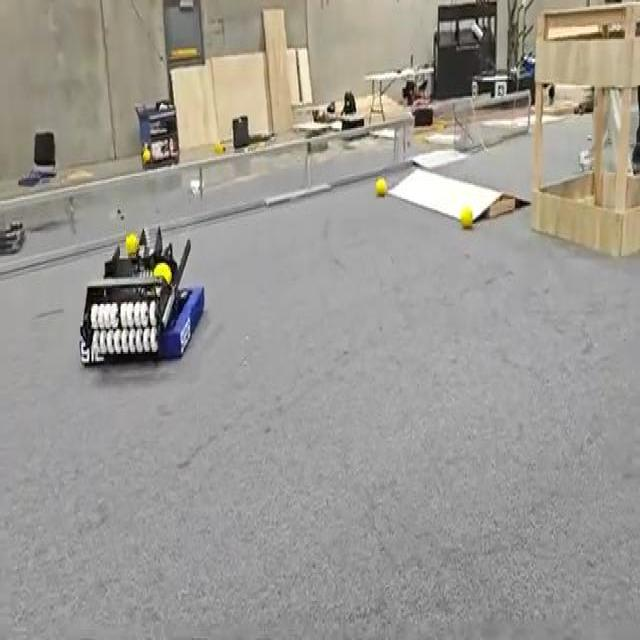Fuel: (153, 263, 171, 286), (153, 263, 171, 283), (125, 233, 138, 256), (459, 206, 472, 228), (375, 178, 387, 195), (376, 178, 386, 196), (142, 146, 151, 163), (142, 146, 150, 162)
